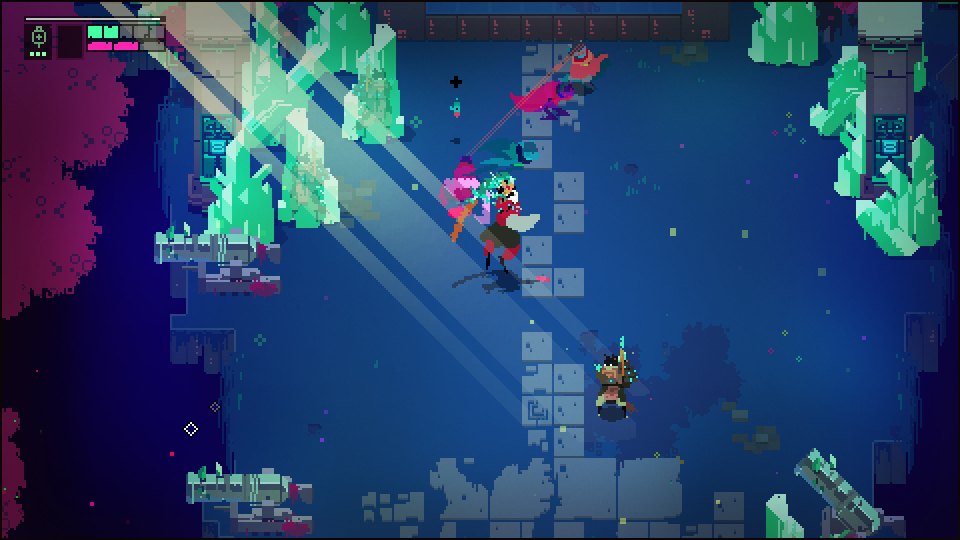hanged_man: (464, 175, 526, 268)
player: (568, 47, 604, 83)
